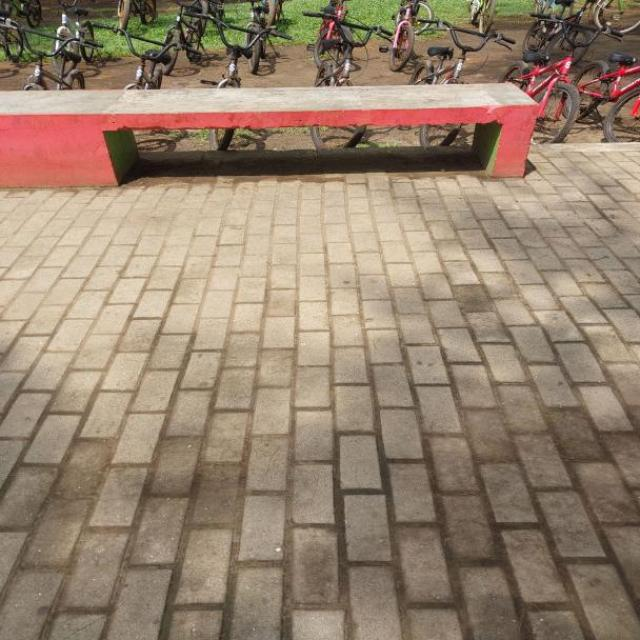bench ahead at: (0, 86, 538, 185)
bicycle ahead at: (518, 11, 596, 139)
